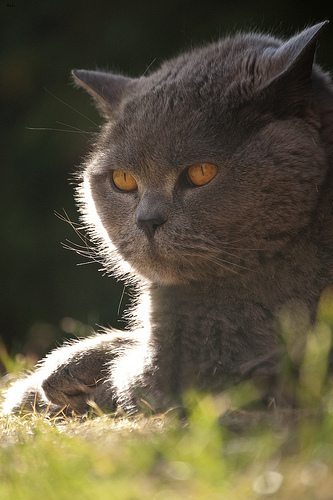cat: (70, 21, 331, 282)
